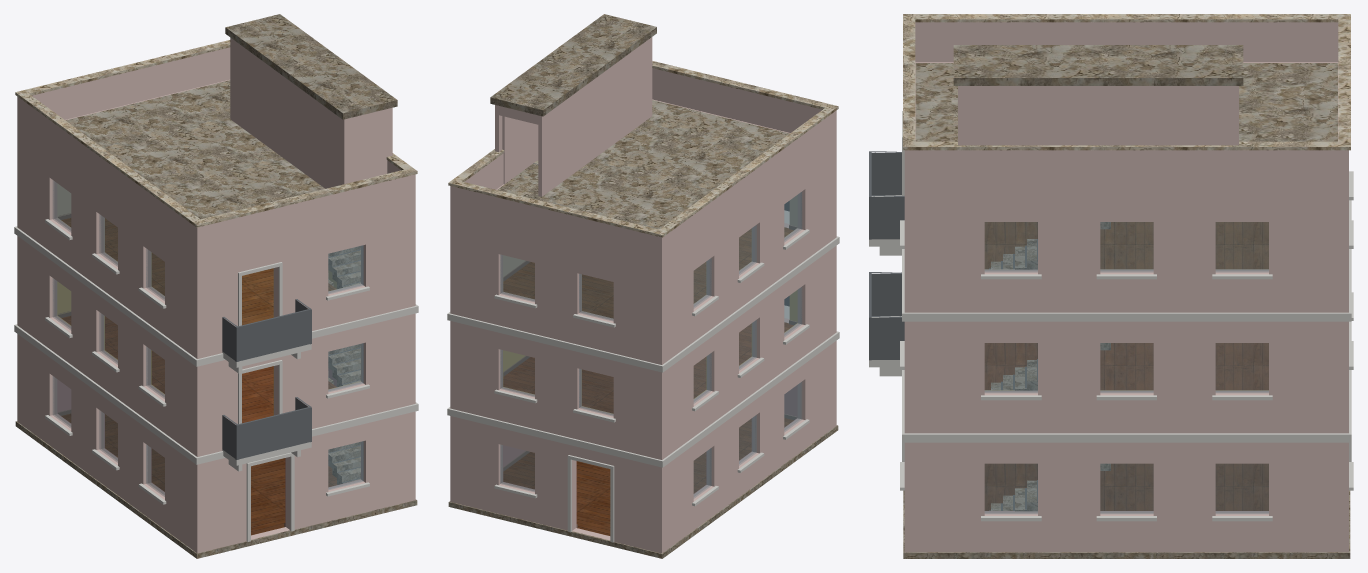
The model's file is bay-townhouse-pink.zfix-v14.lod0.glb.
3 views of the same model, side by side, from view 1: azimuth 30°, elevation 25°; view 2: azimuth 150°, elevation 25°; view 3: azimuth 270°, elevation 25° (orthographic). The views are drawn at different scales.
Visible parts, largest first — view 1: bay-townhouse-pink; view 2: bay-townhouse-pink; view 3: bay-townhouse-pink.
Boxes of the visible parts, bbox=[...] form: bay-townhouse-pink: bbox=[14, 14, 418, 558]; bay-townhouse-pink: bbox=[447, 14, 839, 558]; bay-townhouse-pink: bbox=[869, 14, 1353, 558].
Size of the model in its own units: 7.2 by 11.96 by 10.91.
Materials: 4 (2 with a texture image).
